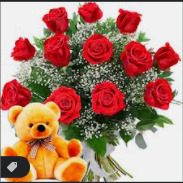RedRose: (90, 81, 127, 117), (121, 43, 154, 77), (142, 80, 176, 112), (0, 80, 32, 113), (49, 88, 80, 122), (43, 34, 75, 64), (41, 7, 71, 34), (83, 38, 115, 63), (154, 43, 181, 70)
